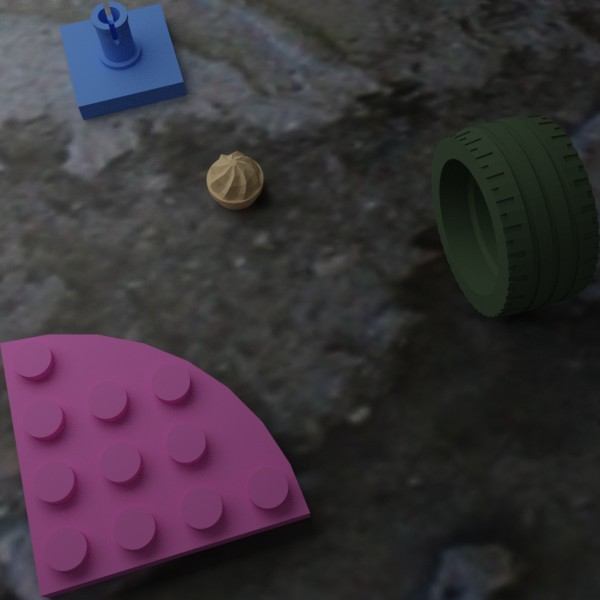lego: (0, 334, 310, 598), (431, 114, 599, 317), (59, 1, 186, 120), (206, 150, 263, 209)
